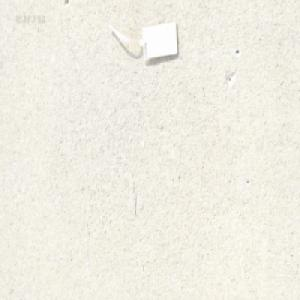LuggageTag: (105, 18, 178, 65)
